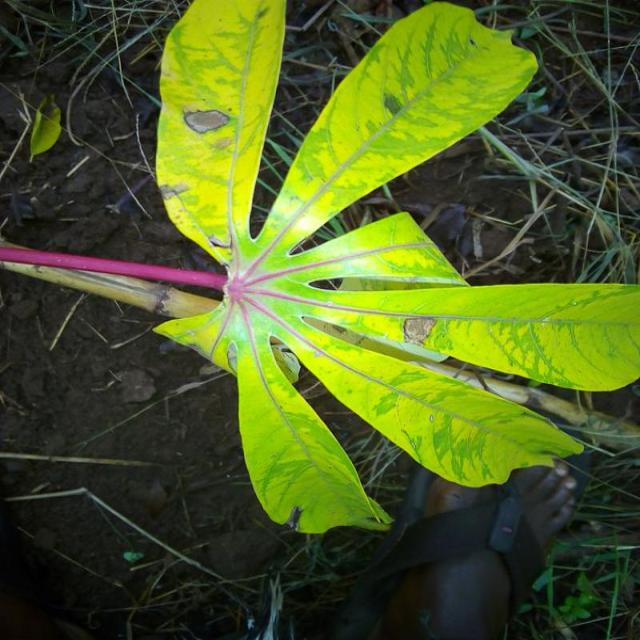cassava leaf: (2, 0, 640, 537), (254, 0, 541, 261), (155, 0, 288, 266)
